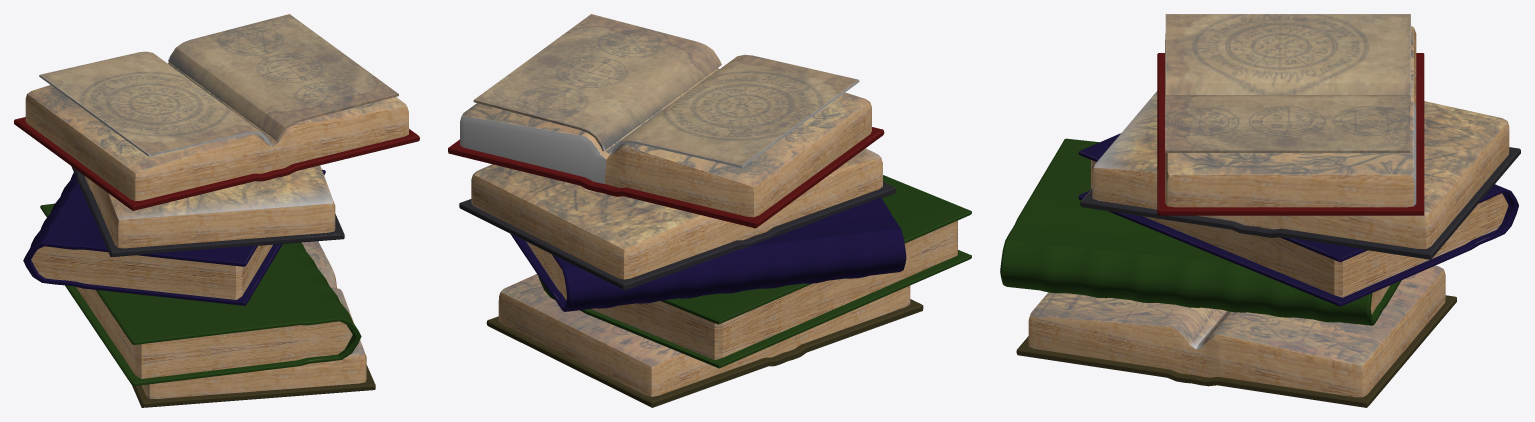
Rendered from 3DArt_Props_StackOfBooks_Model_Amanda_V4.fbx.
3 views of the same model, side by side, from view 1: azimuth 30°, elevation 25°; view 2: azimuth 150°, elevation 25°; view 3: azimuth 270°, elevation 25° (orthographic). The views are drawn at different scales.
Parts seen in each view (by area): view 1: Object001; view 2: Object001; view 3: Object001.
Boxes of the visible parts, <box> form: Object001: <box>14,14,419,407</box>; Object001: <box>448,14,971,407</box>; Object001: <box>1000,14,1520,407</box>.
Size of the model in its own units: 34.2 by 21.17 by 39.
